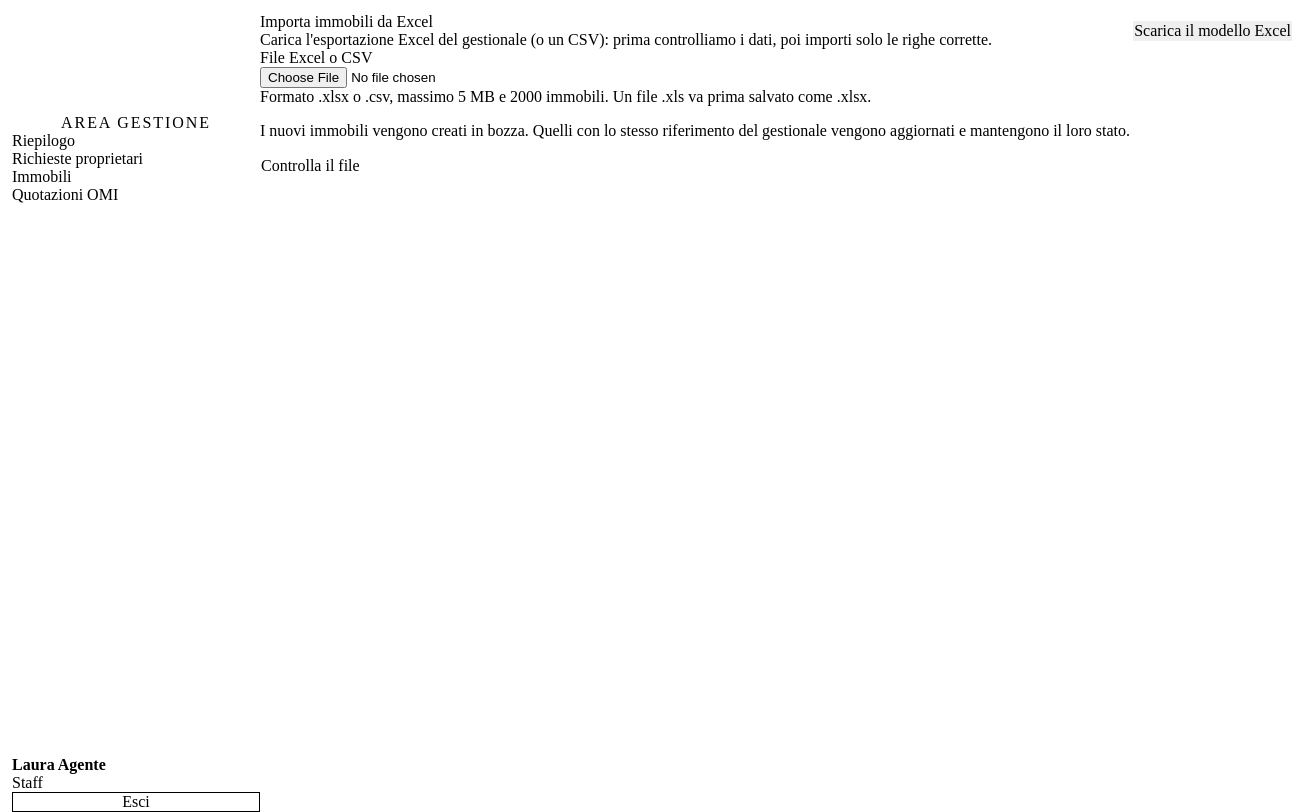
Test: Excel import › warns about missing required columns
Earlier steps of the test are not shown.
Click the button "Controlla il file" at point(310, 166), box [260,156,361,176]
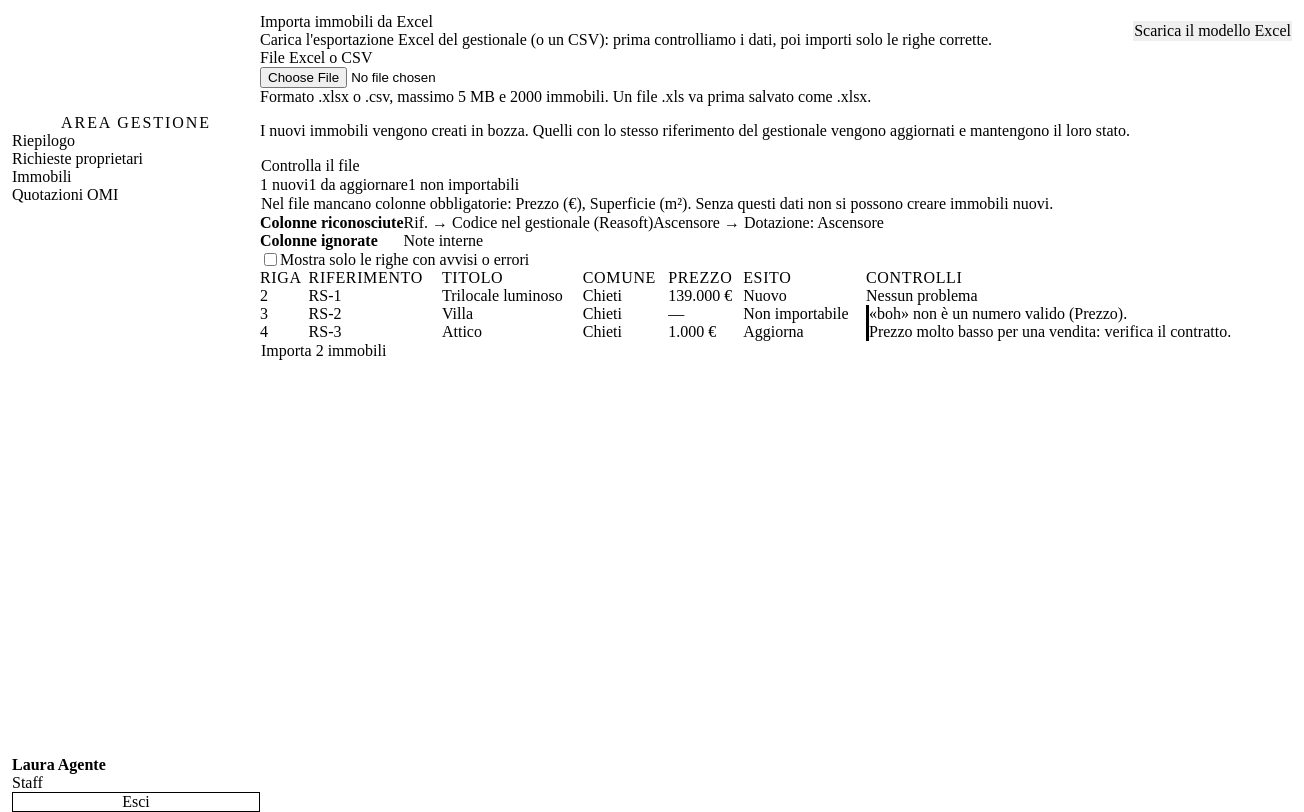
Expected: the message shows "Prezzo (€), Superficie (m²)", [261,195,1053,212]
